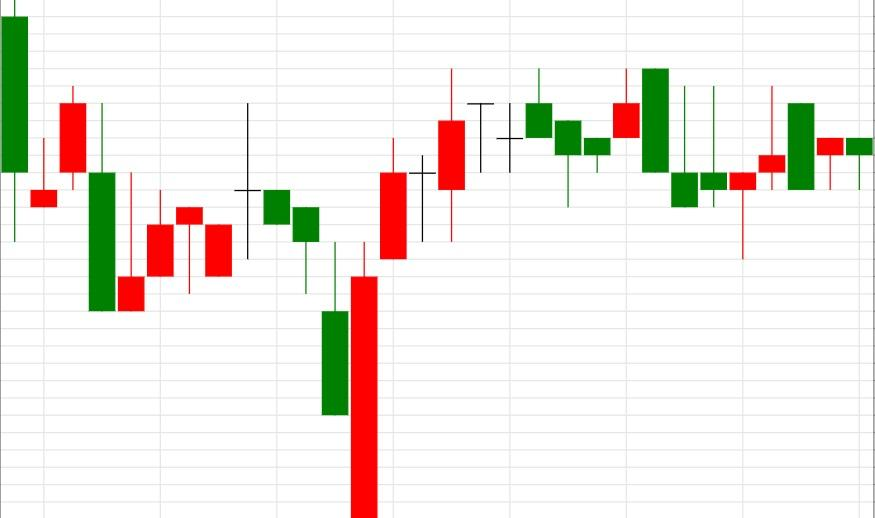bearish_engulfing_fall: (554, 68, 670, 208)
bullish_engulfing_rise: (233, 102, 379, 518)
inverse_hammer_rise: (59, 85, 145, 312)
